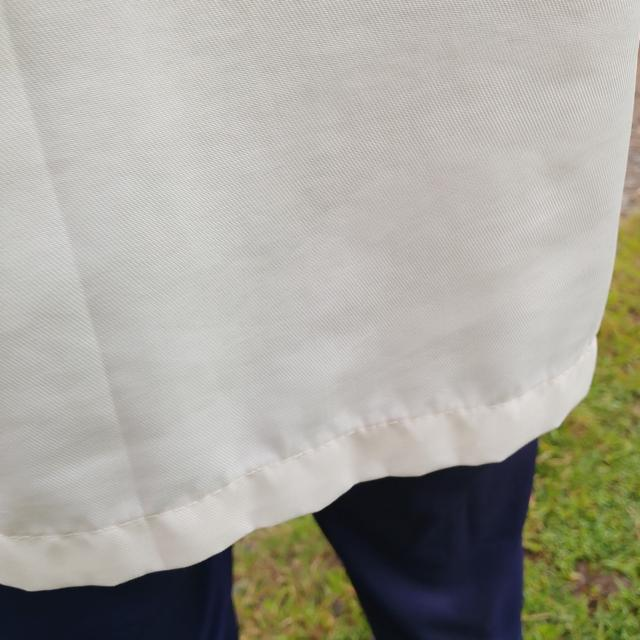education_male_uniform: (1, 0, 630, 529)
